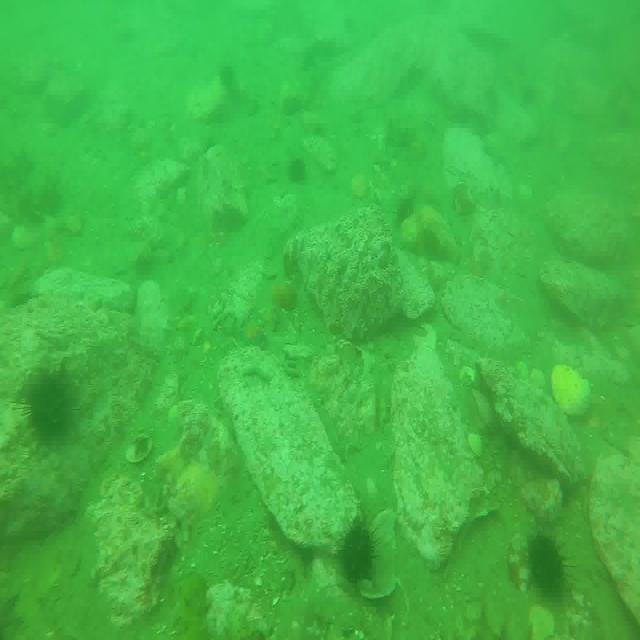echinus: (24, 369, 69, 444), (528, 534, 569, 599), (342, 522, 375, 586), (287, 157, 306, 184)
starfish: (238, 314, 268, 350)
